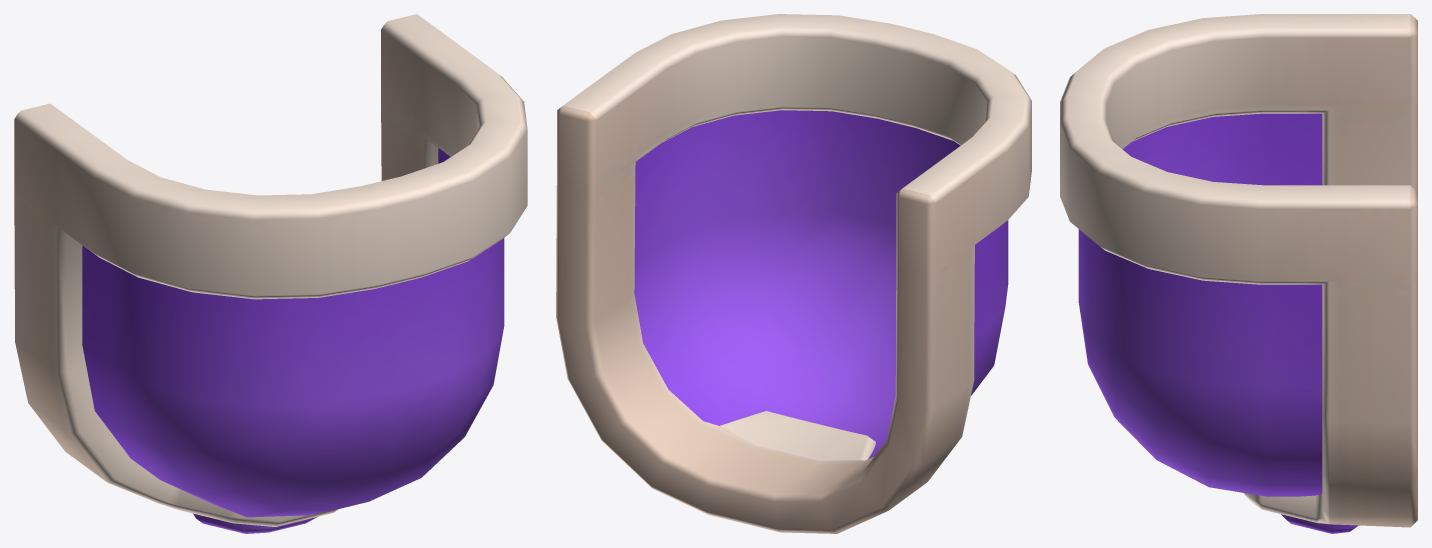
File: Tunnel_1.fbx
The picture shows the model from 3 angles, left to right: view 1: azimuth 30°, elevation 25°; view 2: azimuth 150°, elevation 25°; view 3: azimuth 270°, elevation 25°; orthographic projection. The views are drawn at different scales.
Visible parts, largest first — view 1: Tunnel_1; view 2: Tunnel_1; view 3: Tunnel_1.
Part boxes in pixels (bbox=[...]): Tunnel_1: bbox=[14, 14, 527, 533]; Tunnel_1: bbox=[556, 14, 1031, 533]; Tunnel_1: bbox=[1060, 14, 1417, 533].
Bounding box in the file's own units: 0.2358 × 0.2292 × 0.1861.
